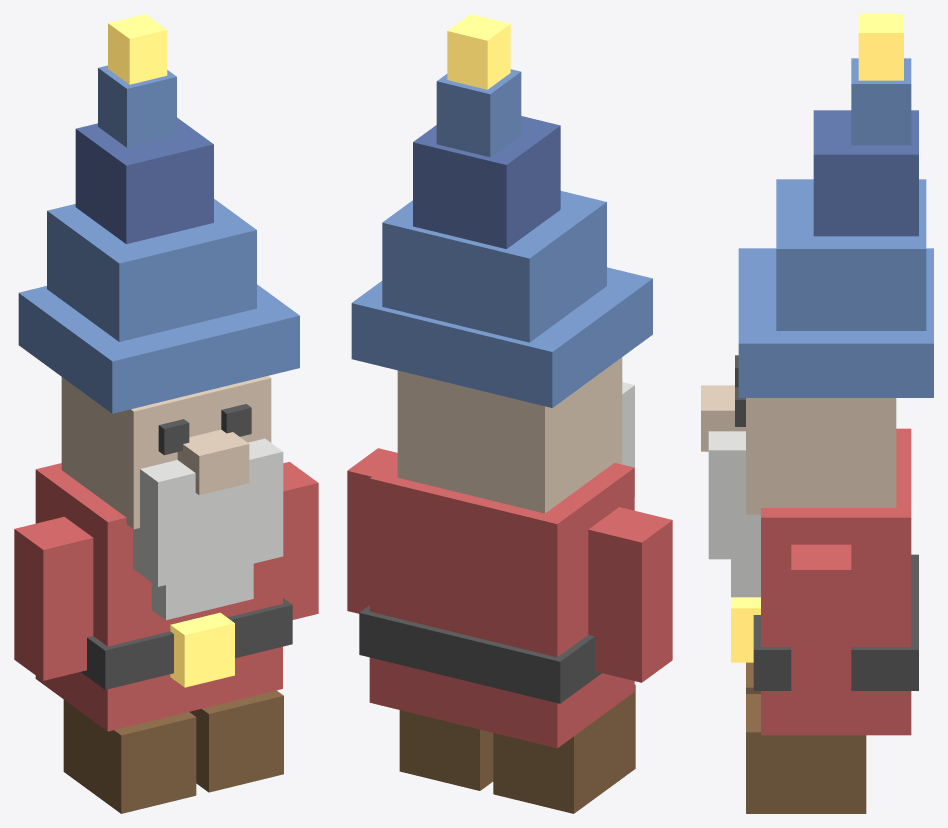
File: built-garden-gnome.glb
The picture shows the model from 3 angles, left to right: view 1: azimuth 30°, elevation 25°; view 2: azimuth 150°, elevation 25°; view 3: azimuth 270°, elevation 25°; orthographic projection. The views are drawn at different scales.
Parts seen in each view (by area): view 1: built-garden-gnome; view 2: built-garden-gnome; view 3: built-garden-gnome.
Part boxes in pixels (box(x1,y1,x2,y2)): built-garden-gnome: box(14, 14, 318, 813); built-garden-gnome: box(347, 14, 672, 813); built-garden-gnome: box(701, 14, 933, 813).
Size of the model in its own units: 0.44 by 1.1 by 0.31.
